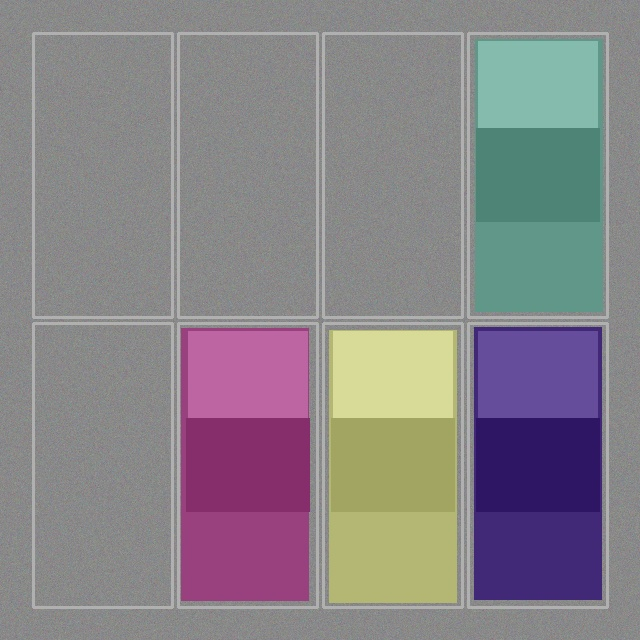space-empty: (35, 35, 170, 315), (180, 35, 315, 315), (325, 35, 460, 315), (35, 325, 170, 605)
space-occupied: (470, 35, 605, 315), (180, 325, 315, 605), (325, 325, 460, 605), (470, 325, 605, 605)
